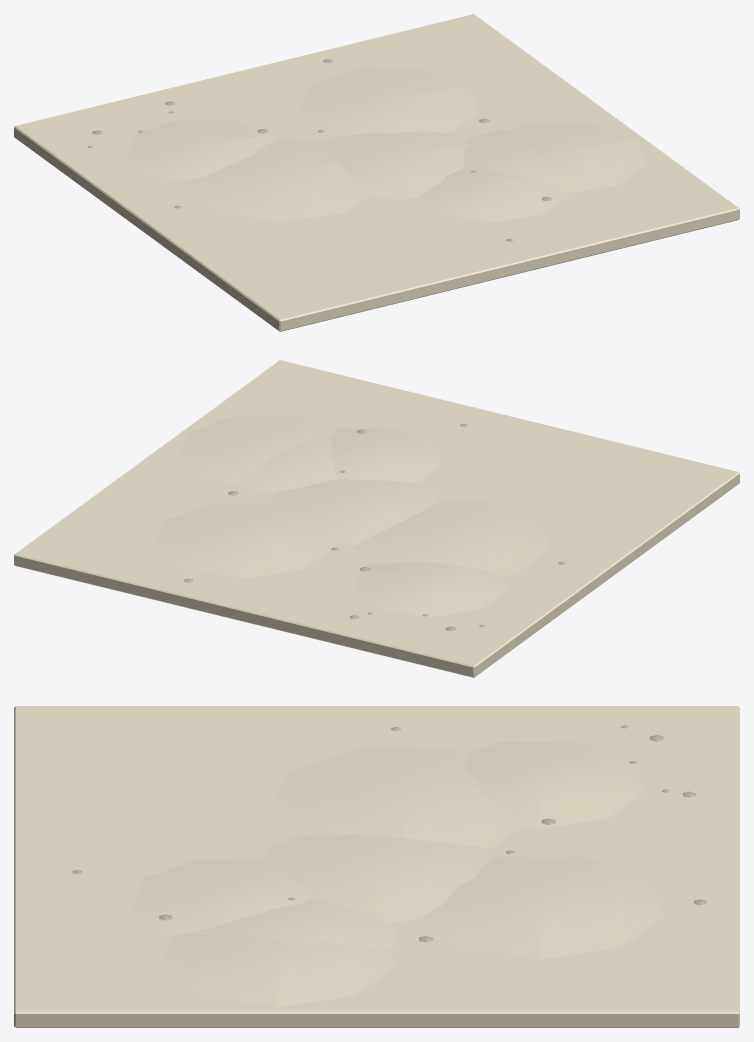
Rendered from amusement-arcade-and-seaside-pier-sand-ground-tile-2eee86bf__35426.glb.
3 renders of one model, top to bottom at view 1: azimuth 30°, elevation 25°; view 2: azimuth 150°, elevation 25°; view 3: azimuth 270°, elevation 25°, orthographic. The views are drawn at different scales.
Visible parts, largest first — view 1: sand-ground-tile; view 2: sand-ground-tile; view 3: sand-ground-tile.
Part boxes in pixels (box(x1,y1,x2,y2)): sand-ground-tile: box(14, 14, 739, 331); sand-ground-tile: box(14, 360, 739, 677); sand-ground-tile: box(14, 706, 739, 1027).
Bounding box in the file's own units: 4 × 0.1358 × 4.
